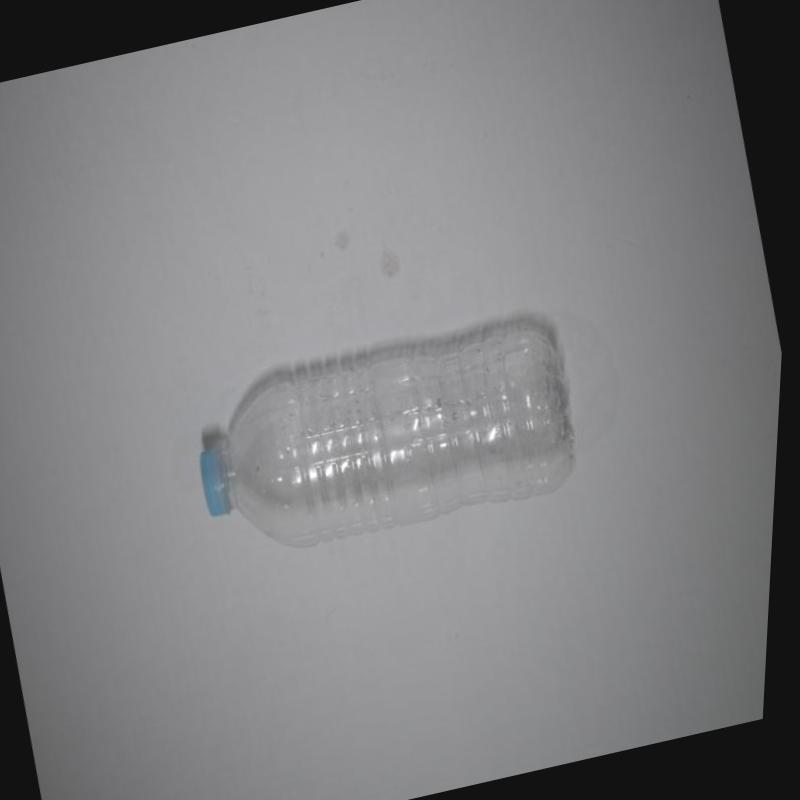botella: (182, 306, 598, 566)
